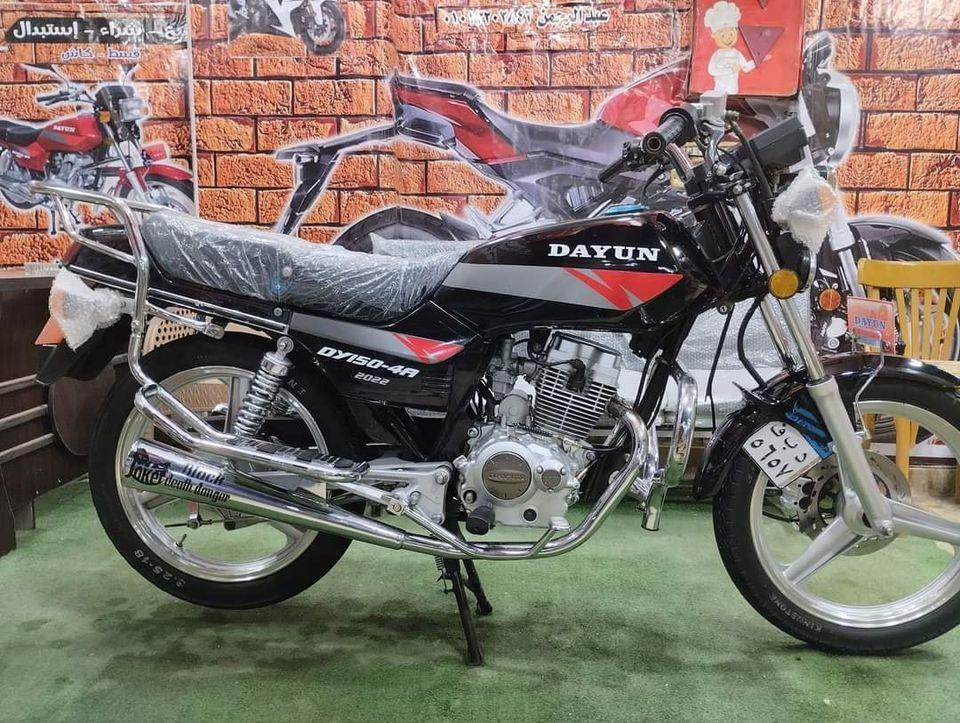License Plate: (743, 413, 834, 486)
